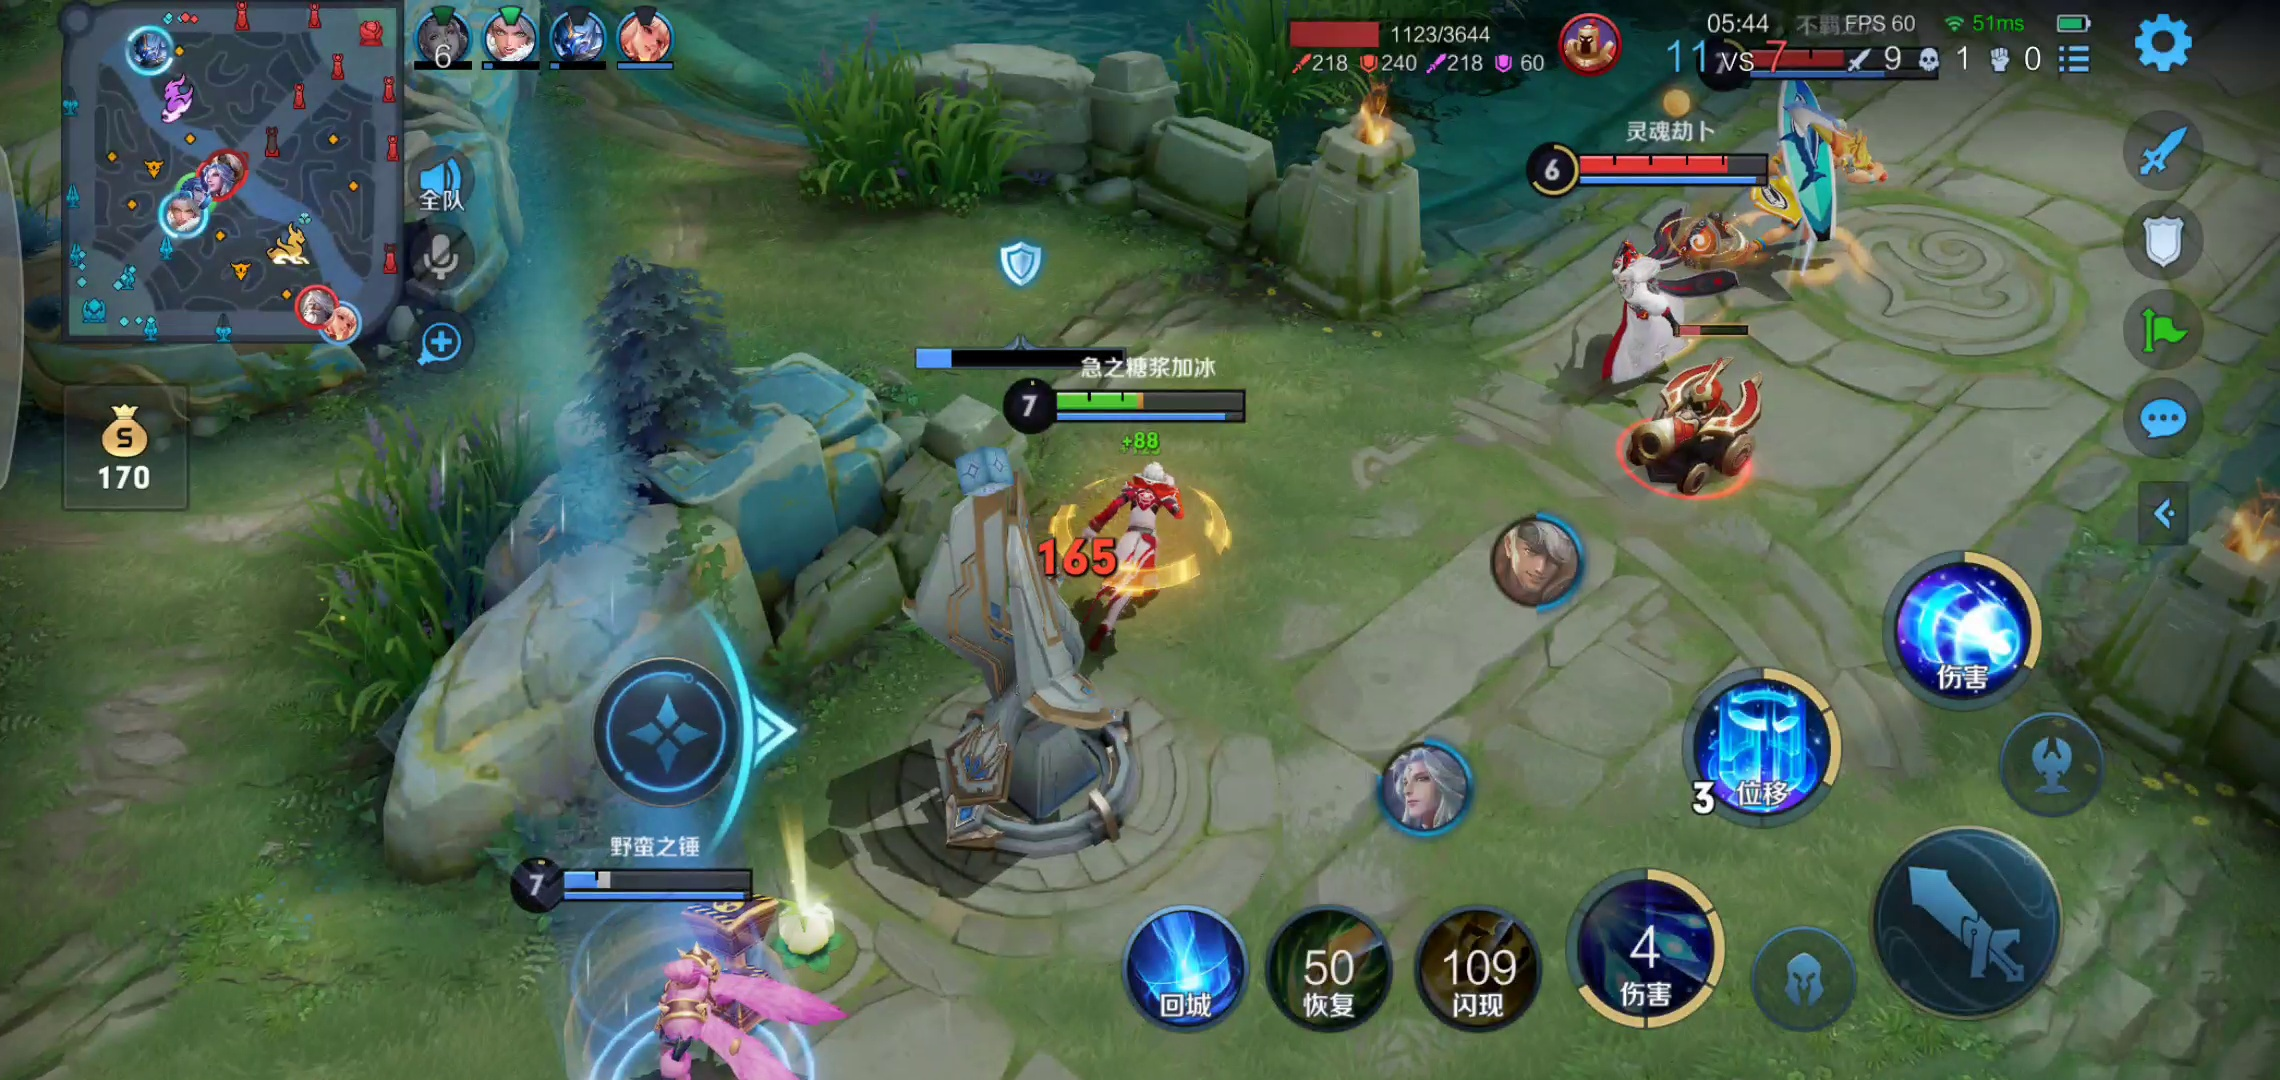grass: (281, 408, 531, 741), (1137, 26, 1557, 151), (781, 32, 1027, 227)
hero: (573, 930, 891, 1080), (1064, 462, 1248, 624), (1762, 70, 1882, 262), (1573, 235, 1697, 374)
soldier: (1639, 359, 1773, 480)
tower: (878, 435, 1160, 869)
